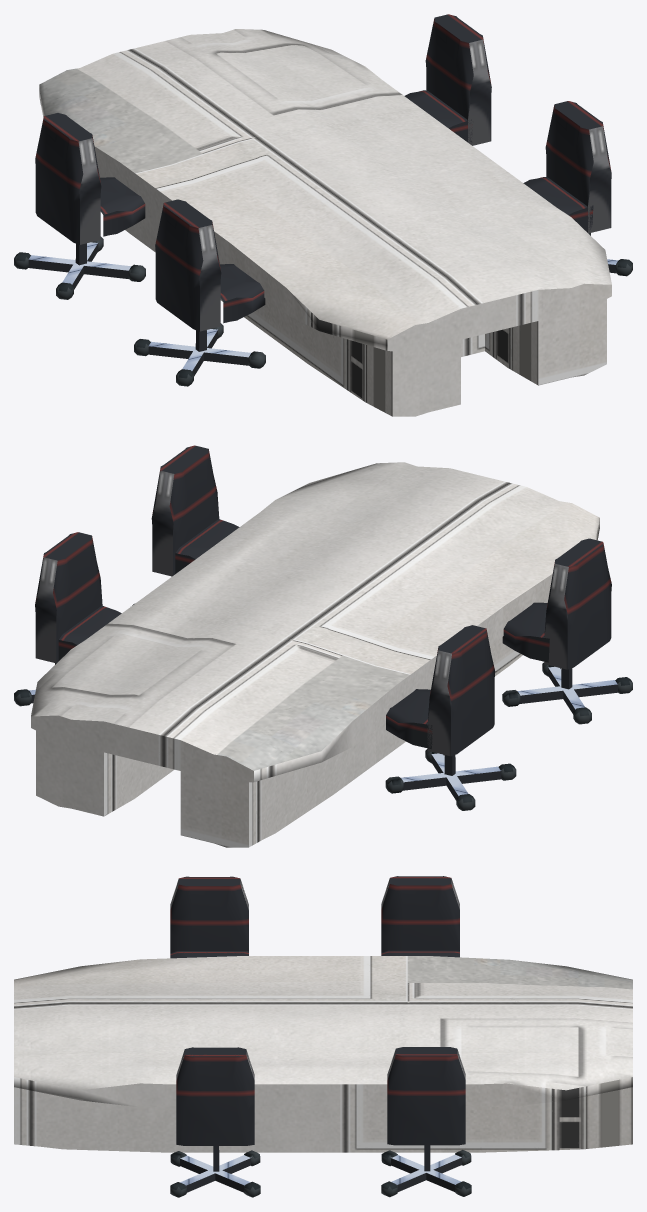
Rendered from prop_table_and_chairs.gltf.
The picture shows the model from 3 angles, top to bottom: view 1: azimuth 30°, elevation 25°; view 2: azimuth 150°, elevation 25°; view 3: azimuth 270°, elevation 25°; orthographic projection. The views are drawn at different scales.
Parts seen in each view (by area): view 1: table_office, chair_office1, chair_office, chair_office2, chair_office3; view 2: table_office, chair_office1, chair_office, chair_office3, chair_office2; view 3: table_office, chair_office3, chair_office2, chair_office, chair_office1.
Part boxes in pixels (x1=…): table_office: x1=39, y1=29, x2=611, y2=416; chair_office1: x1=14, y1=113, x2=145, y2=299; chair_office: x1=134, y1=199, x2=265, y2=386; chair_office2: x1=523, y1=101, x2=632, y2=276; chair_office3: x1=404, y1=14, x2=491, y2=145; table_office: x1=31, y1=462, x2=599, y2=847; chair_office1: x1=385, y1=625, x2=516, y2=810; chair_office: x1=502, y1=538, x2=632, y2=724; chair_office3: x1=14, y1=532, x2=121, y2=706; chair_office2: x1=132, y1=445, x2=239, y2=605; table_office: x1=14, y1=956, x2=632, y2=1152; chair_office3: x1=381, y1=1047, x2=471, y2=1197; chair_office2: x1=170, y1=1047, x2=260, y2=1197; chair_office: x1=170, y1=876, x2=248, y2=958; chair_office1: x1=381, y1=876, x2=459, y2=957.
Size of the model in its own units: 4.86 by 1.56 by 6.38.
3 materials, 3 textured.
